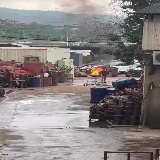fire: (89, 68, 102, 74)
